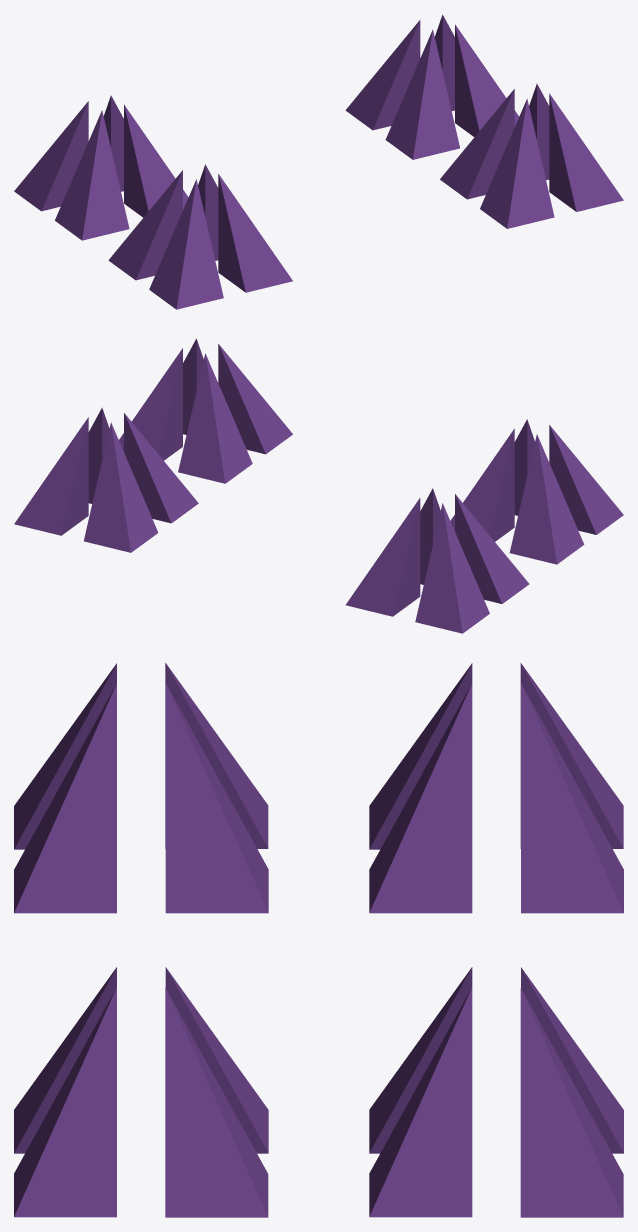
Rendered from Level1-3_BreakablePyramidsCells.fbx.
The picture shows the model from 3 angles, top to bottom: view 1: azimuth 30°, elevation 25°; view 2: azimuth 150°, elevation 25°; view 3: azimuth 270°, elevation 25°; orthographic projection. The views are drawn at different scales.
Visible parts, largest first — view 1: 2x3Platform.004, 2x3Platform.007, 2x3Platform, 2x3Platform.003, 2x3Platform.002, 2x3Platform.001, Cube.019, Cube.017, Cube.012, Cube.014, 2x3Platform.006, 2x3Platform.005 (+4 smaller); view 2: Cube.017, Cube.012, Cube.019, Cube.014, Cube.018, Cube.016, 2x3Platform, 2x3Platform.004, 2x3Platform.003, 2x3Platform.007, Cube.011, Cube.013 (+4 smaller); view 3: Cube.011, 2x3Platform.005, 2x3Platform.006, Cube.016, Cube.013, Cube.018, 2x3Platform.001, 2x3Platform.002, Cube.012, Cube.019, Cube.014, Cube.017 (+4 smaller).
Part boxes in pixels (x1,y1,x2,y2): 2x3Platform.004: (385, 29, 459, 159); 2x3Platform.007: (55, 110, 129, 240); 2x3Platform: (480, 98, 554, 228); 2x3Platform.003: (149, 179, 223, 309); 2x3Platform.002: (218, 174, 292, 292); 2x3Platform.001: (549, 93, 623, 211); Cube.019: (14, 101, 88, 211); Cube.017: (345, 20, 420, 130); Cube.012: (108, 170, 182, 280); Cube.014: (440, 89, 514, 199); 2x3Platform.006: (124, 105, 188, 217); 2x3Platform.005: (455, 24, 519, 136); Cube.017: (84, 422, 158, 552); Cube.012: (509, 434, 584, 564); Cube.019: (415, 503, 489, 633); Cube.014: (178, 353, 252, 483); Cube.018: (345, 498, 420, 616); Cube.016: (14, 417, 88, 535); 2x3Platform: (218, 344, 292, 454); 2x3Platform.004: (124, 413, 198, 523); 2x3Platform.003: (549, 425, 623, 534); 2x3Platform.007: (455, 494, 529, 603); Cube.011: (450, 428, 514, 541); Cube.013: (119, 348, 182, 460); Cube.011: (165, 683, 268, 913); 2x3Platform.005: (369, 987, 472, 1217); 2x3Platform.006: (369, 683, 472, 913); Cube.016: (520, 988, 623, 1217); Cube.013: (165, 988, 268, 1217); Cube.018: (521, 683, 623, 913); 2x3Platform.001: (14, 987, 116, 1217); 2x3Platform.002: (14, 683, 116, 913); Cube.012: (165, 663, 268, 848); Cube.019: (520, 663, 623, 848); Cube.014: (165, 967, 268, 1153); Cube.017: (521, 967, 623, 1153).
Bounding box in the file's own units: 736 × 155 × 460.
